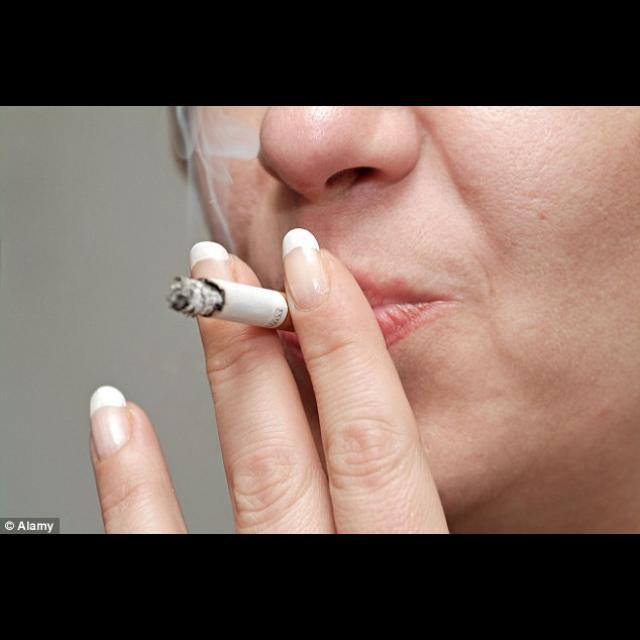rokok: (154, 270, 296, 340)
